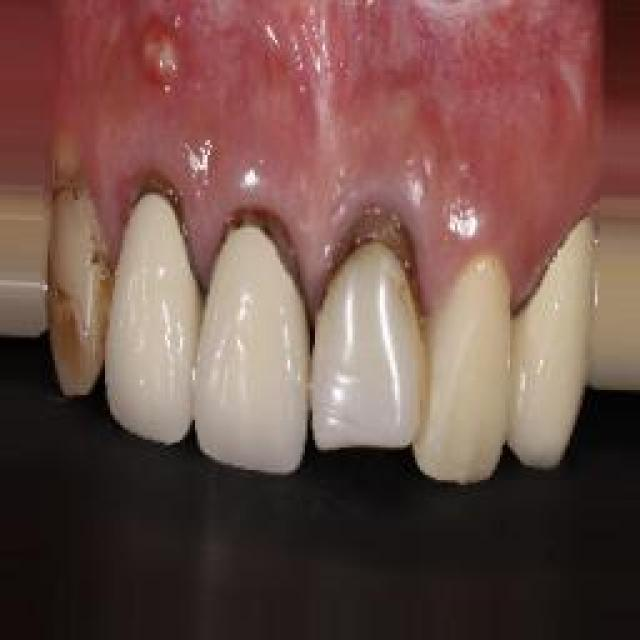caries: (50, 183, 98, 373), (338, 218, 421, 303), (245, 215, 308, 305), (130, 190, 183, 238)
